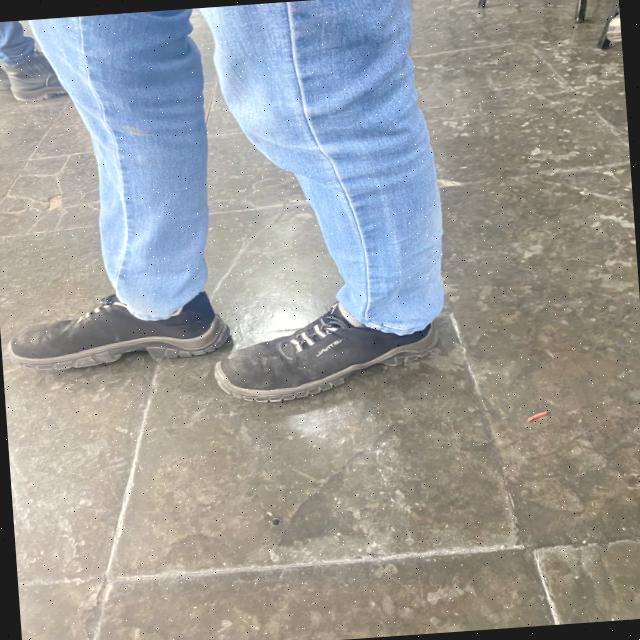BOTA: (209, 280, 439, 410), (3, 277, 234, 370), (0, 48, 96, 107)
